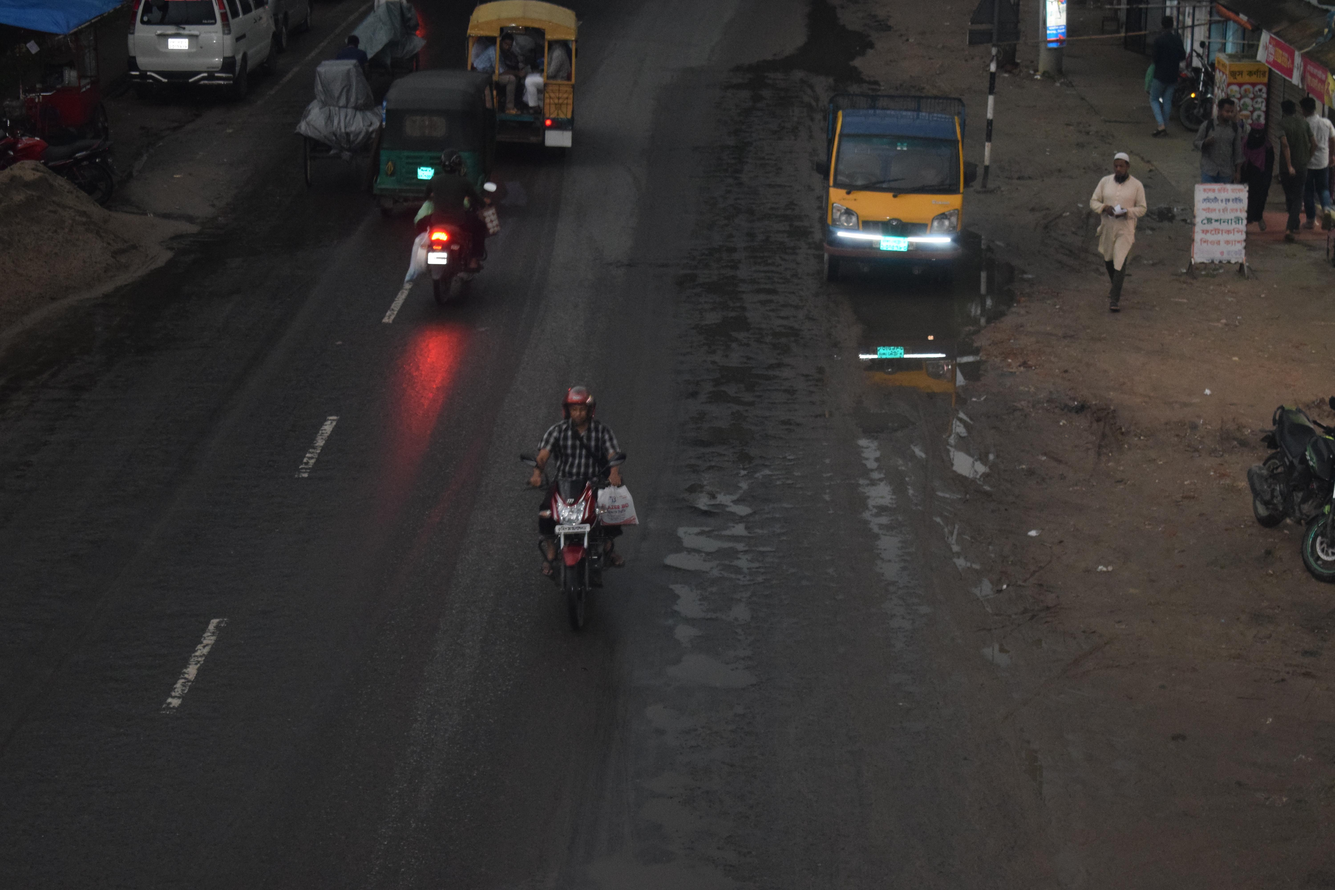Bike: (496, 367, 654, 658), (1231, 366, 1335, 611), (398, 129, 510, 330)
Car: (457, 0, 602, 175), (259, 30, 395, 207), (110, 0, 300, 117)
Truck: (776, 53, 1007, 313)
